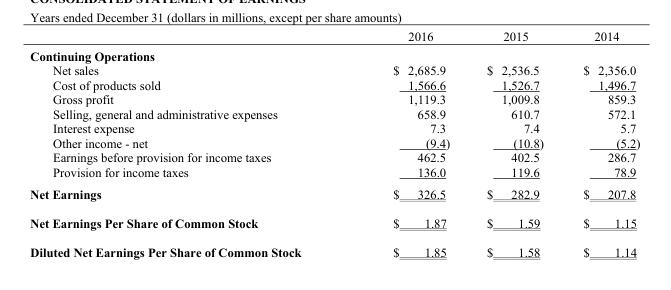table: (29, 28, 639, 258)
table column: (29, 28, 346, 258), (346, 28, 467, 258), (467, 28, 562, 258), (562, 28, 639, 258)
table column header: (29, 28, 639, 45)
table projected row header: (29, 45, 639, 62)
table row: (29, 207, 639, 237), (29, 182, 639, 207), (29, 237, 639, 258), (29, 164, 639, 182), (29, 28, 639, 45), (29, 45, 639, 62), (29, 62, 639, 77), (29, 91, 639, 106), (29, 120, 639, 135), (29, 149, 639, 164), (29, 77, 639, 91), (29, 106, 639, 120), (29, 135, 639, 149)
